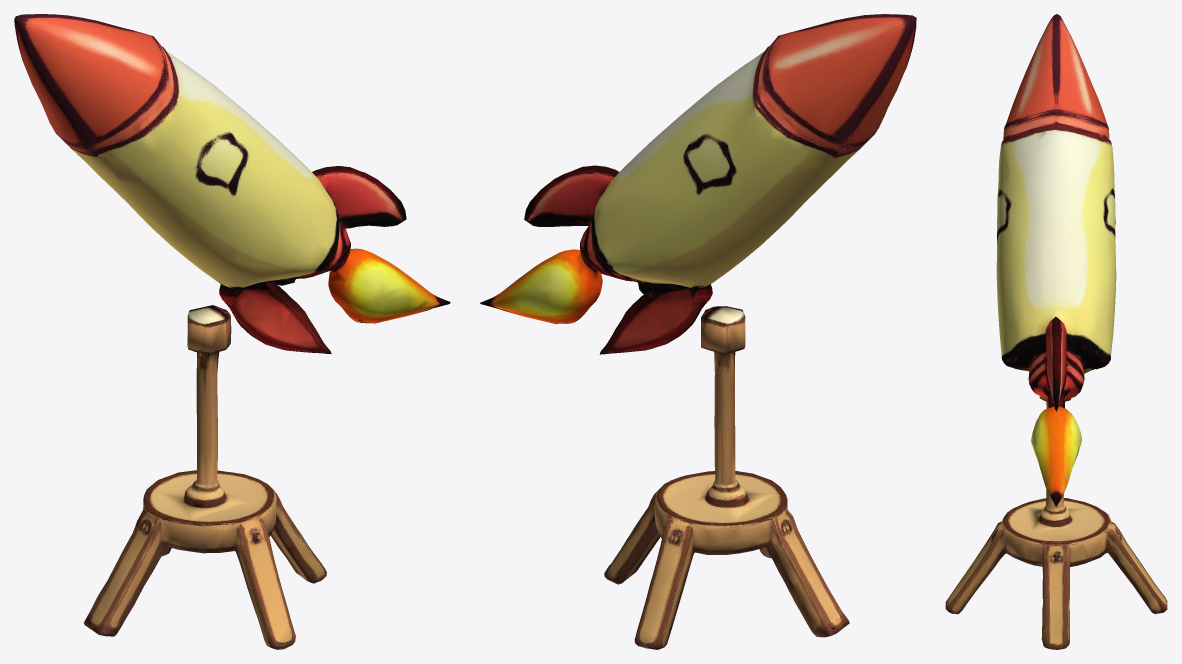
The model's file is isaret_fisegi.glb.
3 views of the same model, side by side, from view 1: azimuth 30°, elevation 25°; view 2: azimuth 150°, elevation 25°; view 3: azimuth 270°, elevation 25° (orthographic). The views are drawn at different scales.
Visible parts, largest first — view 1: geometry_0; view 2: geometry_0; view 3: geometry_0.
Part boxes in pixels (box(x1,y1,x2,y2)): geometry_0: box(14, 14, 450, 649); geometry_0: box(480, 14, 916, 649); geometry_0: box(945, 14, 1167, 649).
Bounding box in the file's own units: 0.7157 × 0.9967 × 0.3865.
1 material, 1 textured.
